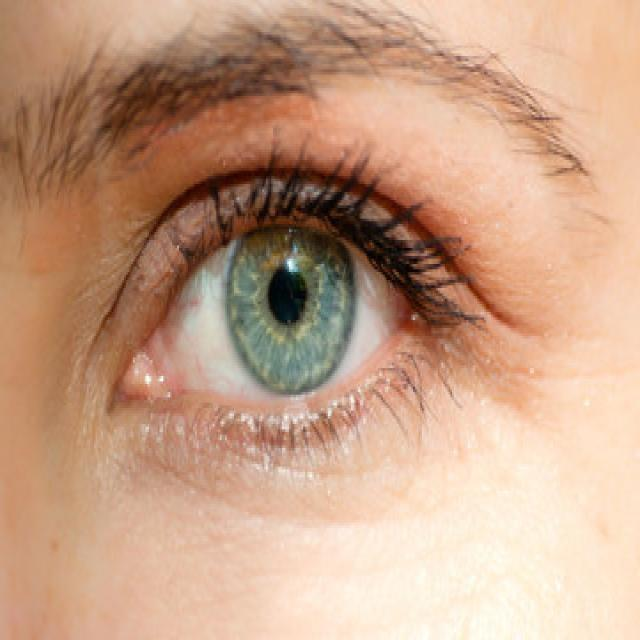Normal: (0, 65, 638, 637)
